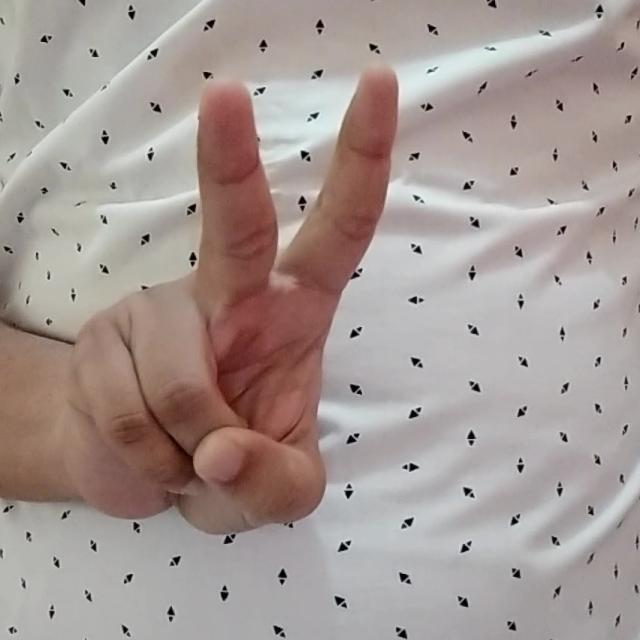V: (51, 50, 419, 538)
